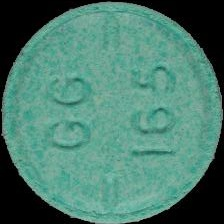68151-3112: (0, 0, 224, 224)
